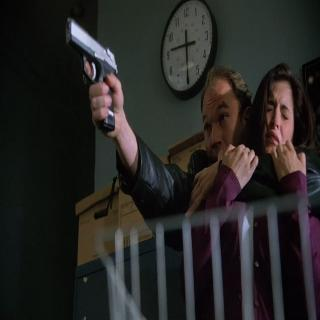gun: (67, 18, 119, 130)
